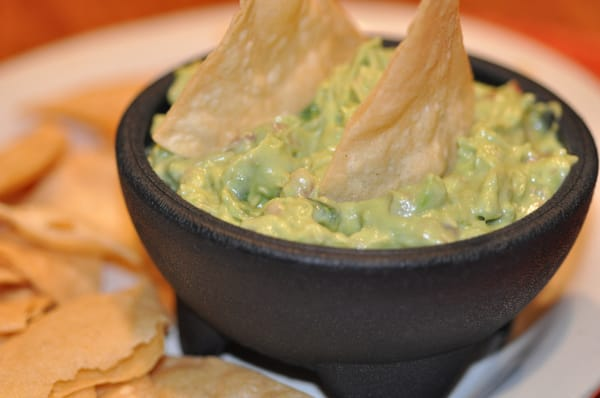sushi: (113, 0, 597, 378)
